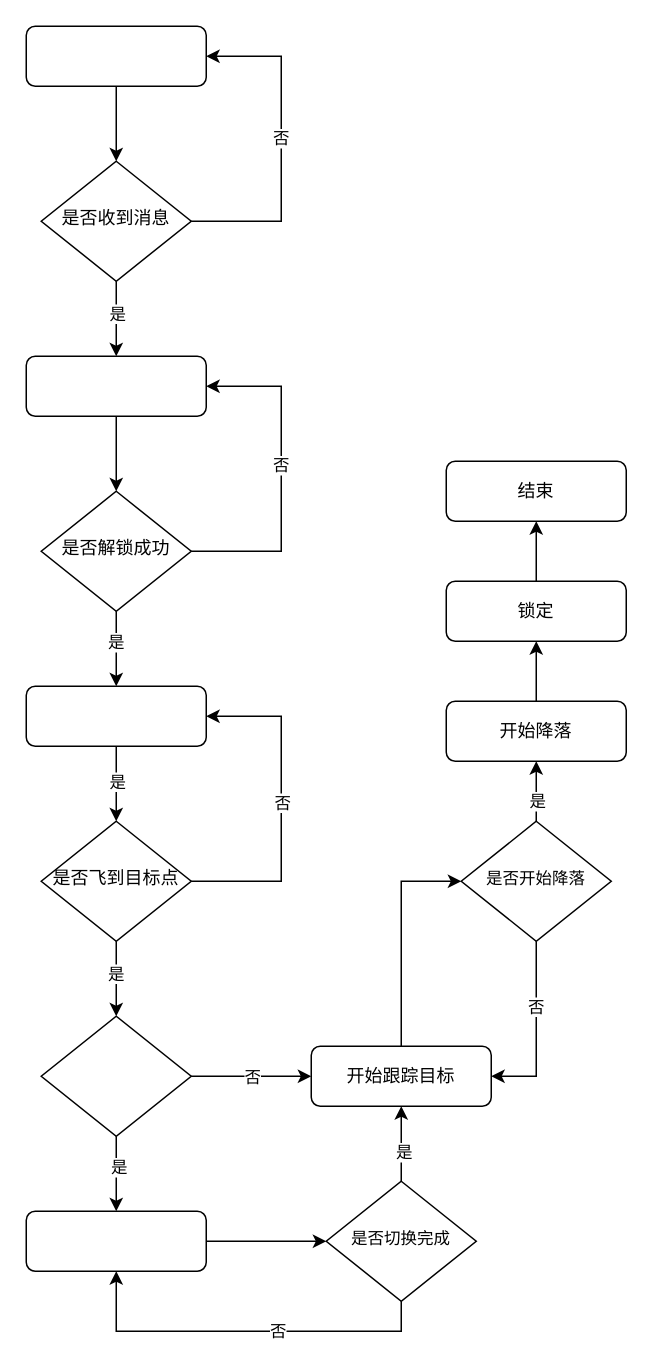
Some shapes in this 653 by 1370 pixel diagram are drawn without their labels. Each missing label, with the box of its shape:
开始切换速度模式: (25, 1210, 206, 1271)
开始解锁无人机: (25, 355, 206, 416)
开始飞往设定高度: (25, 685, 206, 746)
是否切换速度模式: (40, 1015, 191, 1136)
等待视觉节点消息: (25, 25, 206, 86)
